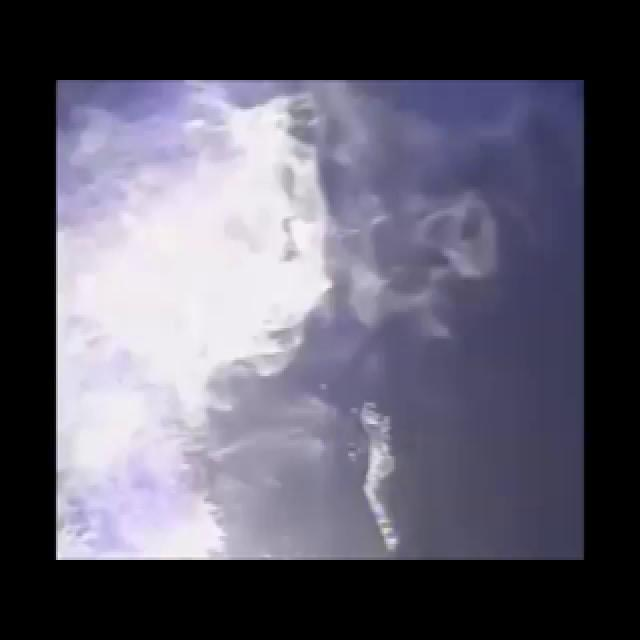arson: (54, 94, 437, 557)
